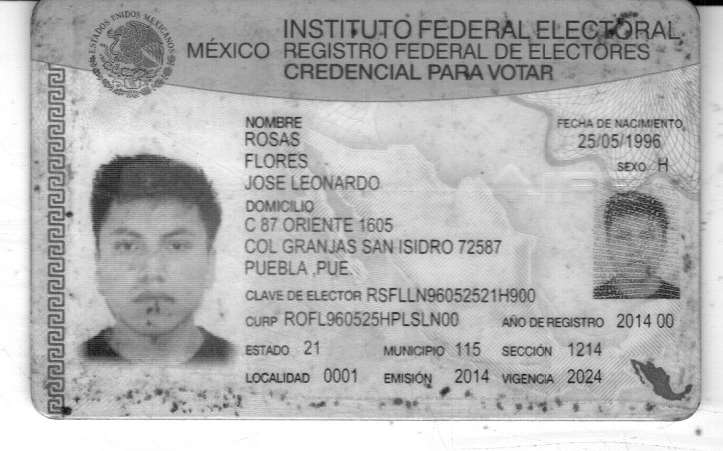ESCUDO: (89, 11, 176, 99)
MAPA: (630, 359, 693, 401)
PALABRA: (536, 20, 682, 40)
